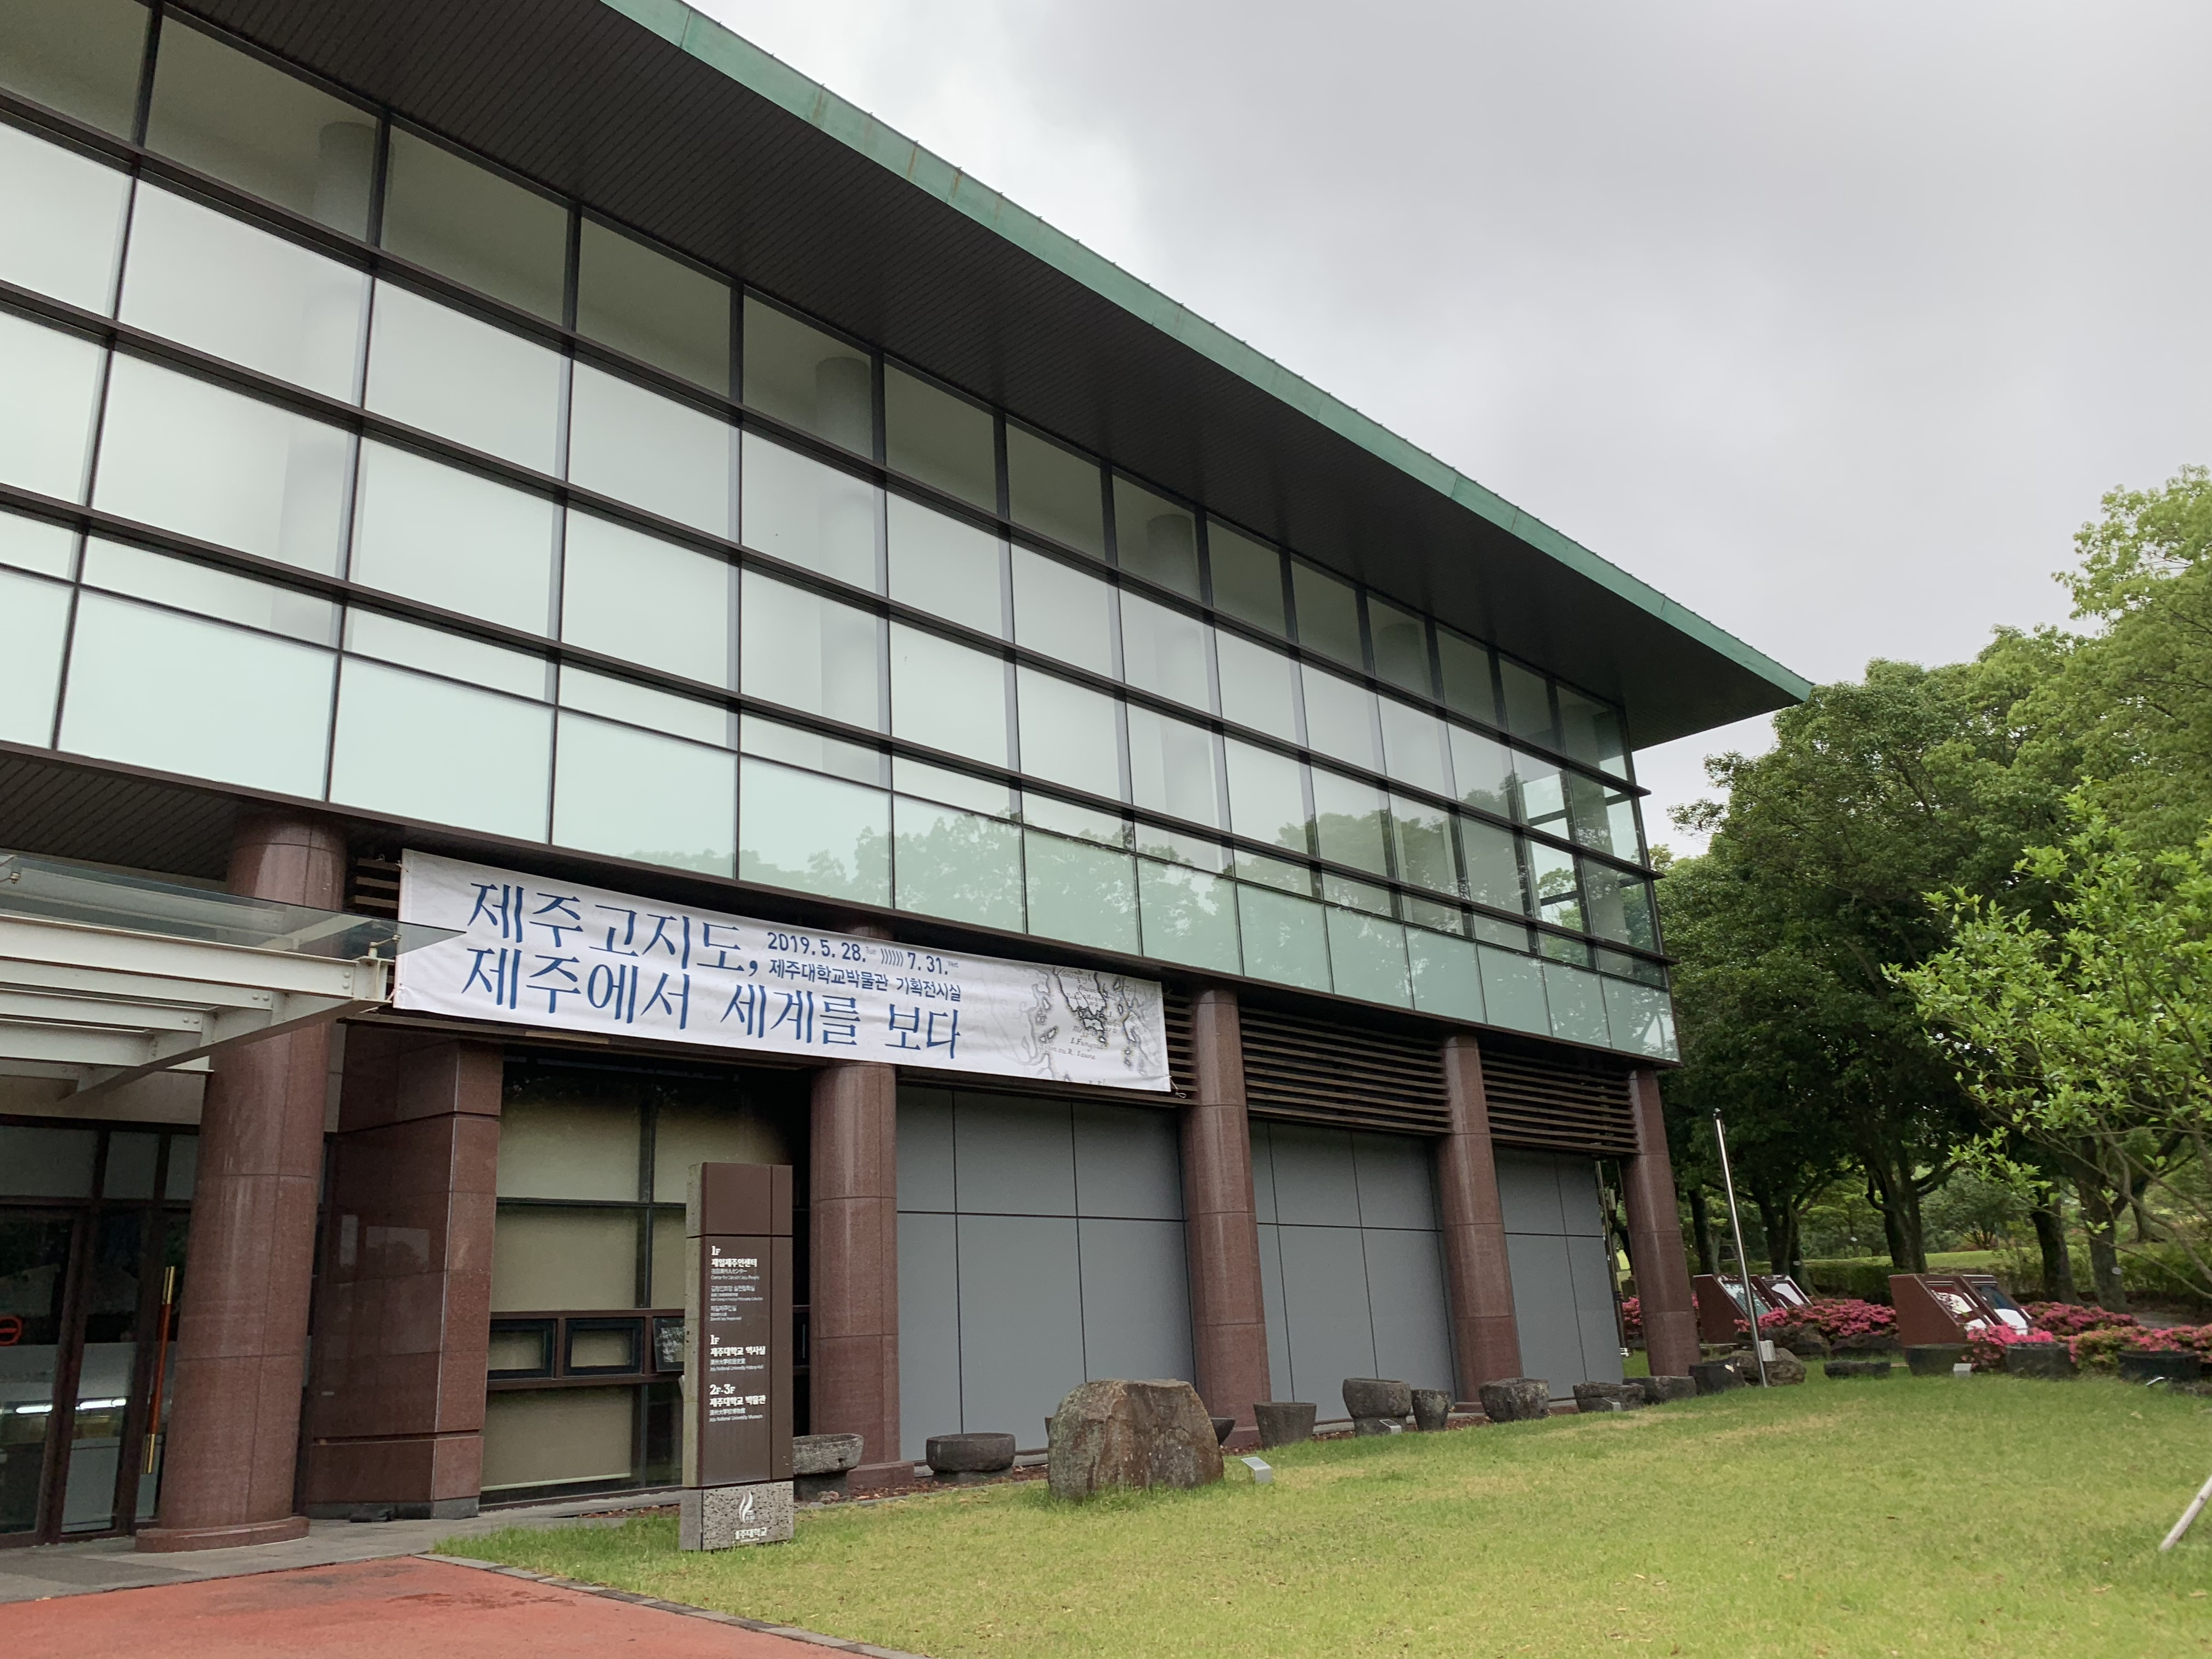Museum: (17, 77, 1825, 1539)
